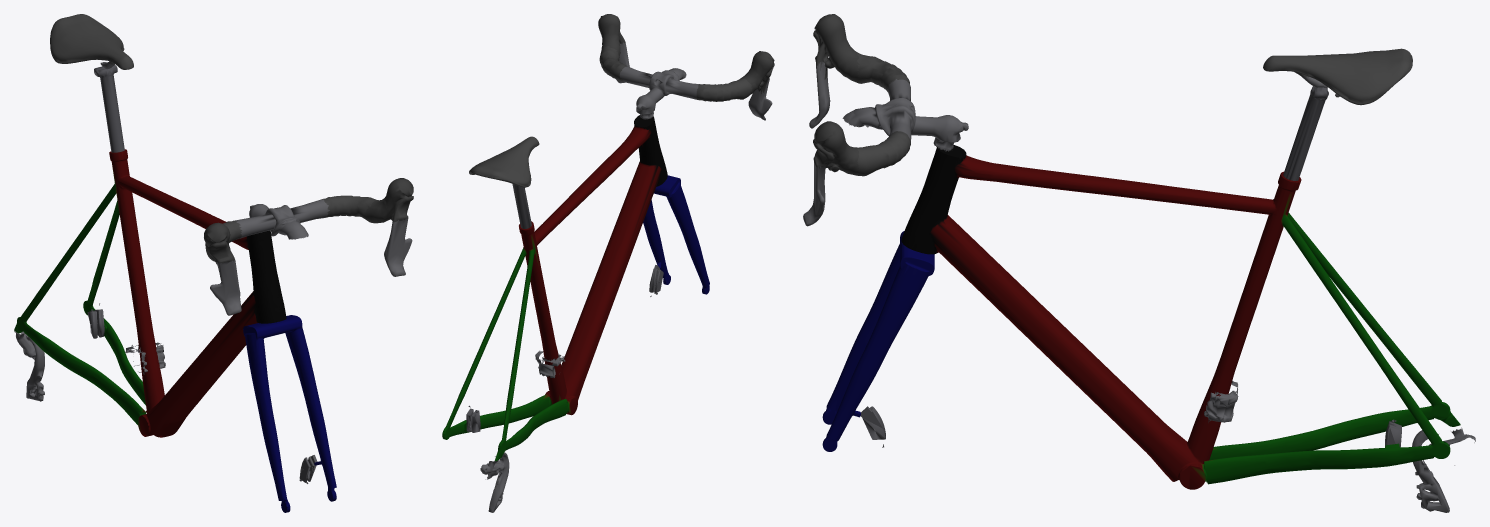
Rendered from look785l_lod1.glb.
3 views of the same model, side by side, from view 1: azimuth 30°, elevation 25°; view 2: azimuth 150°, elevation 25°; view 3: azimuth 270°, elevation 25° (orthographic). The views are drawn at different scales.
Visible parts, largest first — view 1: frame, cockpit, fork, saddle, seatpost; view 2: frame, cockpit, fork, saddle, seatpost; view 3: frame, cockpit, fork, saddle, seatpost.
Boxes of the visible parts, <box> form: frame: <box>14,149,286,437</box>; cockpit: <box>204,178,413,315</box>; fork: <box>243,315,336,512</box>; saddle: <box>50,14,133,69</box>; seatpost: <box>94,65,124,152</box>; frame: <box>442,115,667,512</box>; cockpit: <box>598,14,774,120</box>; fork: <box>643,175,709,294</box>; saddle: <box>469,136,539,187</box>; seatpost: <box>512,184,531,228</box>; frame: <box>901,144,1475,512</box>; cockpit: <box>803,14,968,226</box>; fork: <box>822,231,934,451</box>; saddle: <box>1263,48,1412,105</box>; seatpost: <box>1283,85,1328,180</box>.
Bounding box in the file's own units: 0.4746 × 0.8541 × 1.11.
